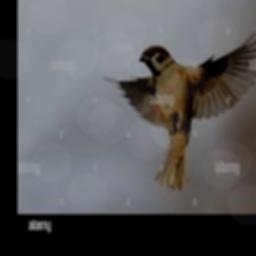Sparrow: (103, 31, 256, 190)
